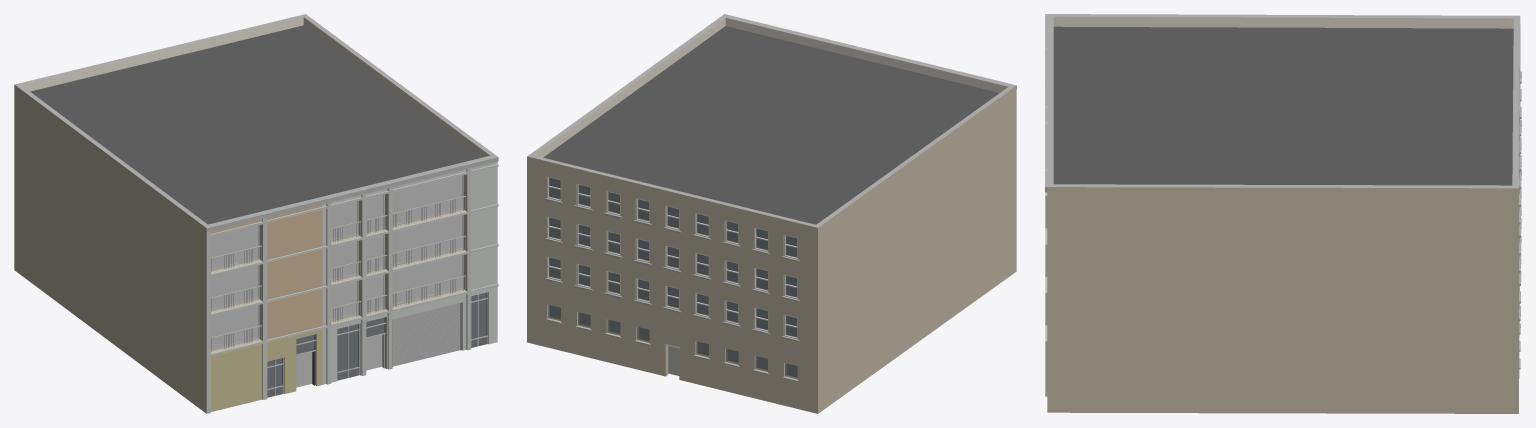
The model's file is exterior.glb.
The picture shows the model from 3 angles, left to right: view 1: azimuth 30°, elevation 25°; view 2: azimuth 150°, elevation 25°; view 3: azimuth 270°, elevation 25°; orthographic projection. The views are drawn at different scales.
Parts seen in each view (by area): view 1: shell, roof, shadow-proxy, relief-0, storefront, glazing; view 2: shell, roof, glazing, shadow-proxy, frames, trim, relief-0; view 3: shell, roof, relief-0, trim.
Boxes of the visible parts, left/top/right/bottom form: shell: left=14, top=14, right=497, bottom=412; roof: left=30, top=25, right=481, bottom=224; shadow-proxy: left=211, top=175, right=485, bottom=388; relief-0: left=206, top=156, right=498, bottom=413; storefront: left=211, top=175, right=488, bottom=397; glazing: left=267, top=292, right=486, bottom=388; shell: left=527, top=14, right=1015, bottom=413; roof: left=543, top=26, right=999, bottom=224; glazing: left=548, top=177, right=797, bottom=379; shadow-proxy: left=550, top=178, right=797, bottom=377; frames: left=547, top=176, right=797, bottom=339; trim: left=544, top=198, right=799, bottom=381; relief-0: left=724, top=14, right=1016, bottom=271; shell: left=1047, top=14, right=1520, bottom=413; roof: left=1053, top=26, right=1513, bottom=185; relief-0: left=1045, top=14, right=1047, bottom=396; trim: left=1519, top=71, right=1521, bottom=369.
Size of the model in its own units: 21.58 by 13.03 by 24.94.
